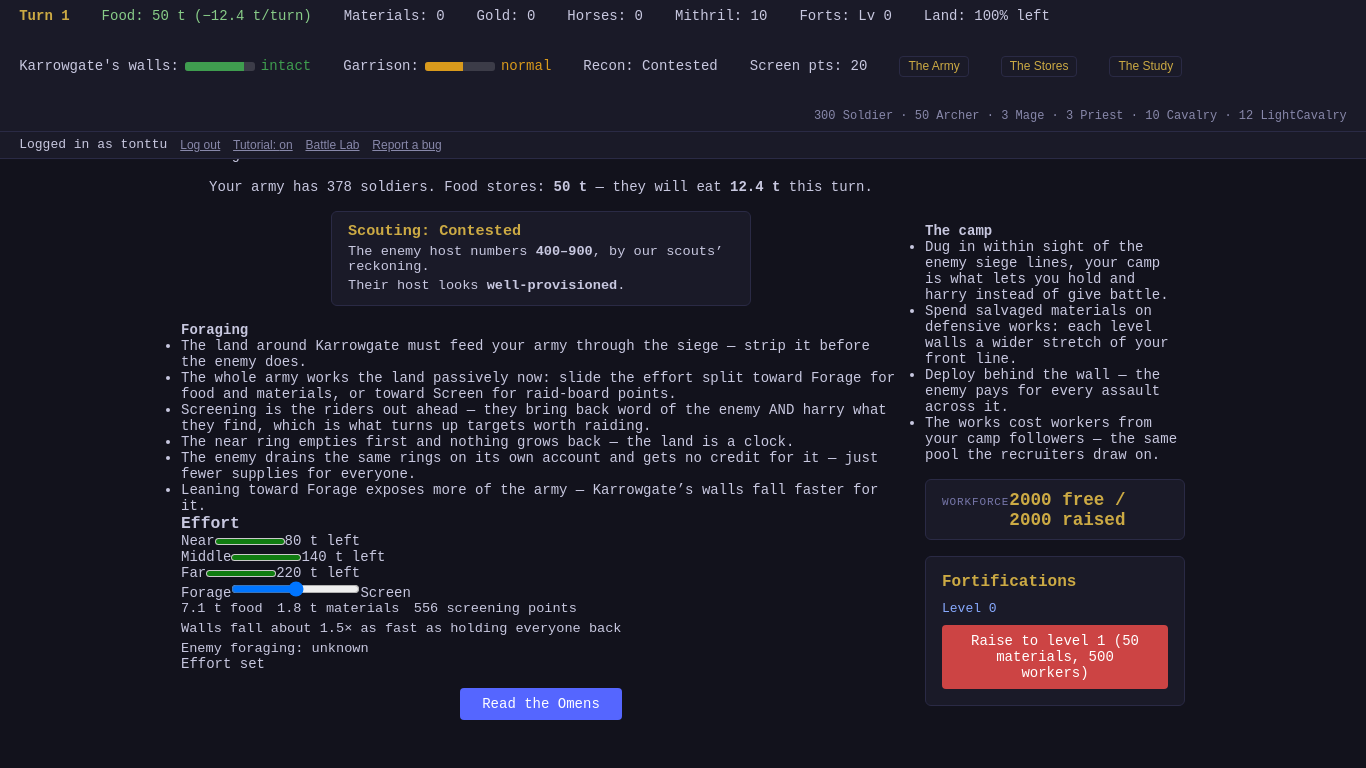
Test: raid panel — opportunities › names the fate a counter raid unmakes, and what it would cost
The width and height of the screenshot is (1366, 768).
(page scrolled)
Click the button with test id "to-omens" at (541, 704), box [460,688,622,720]
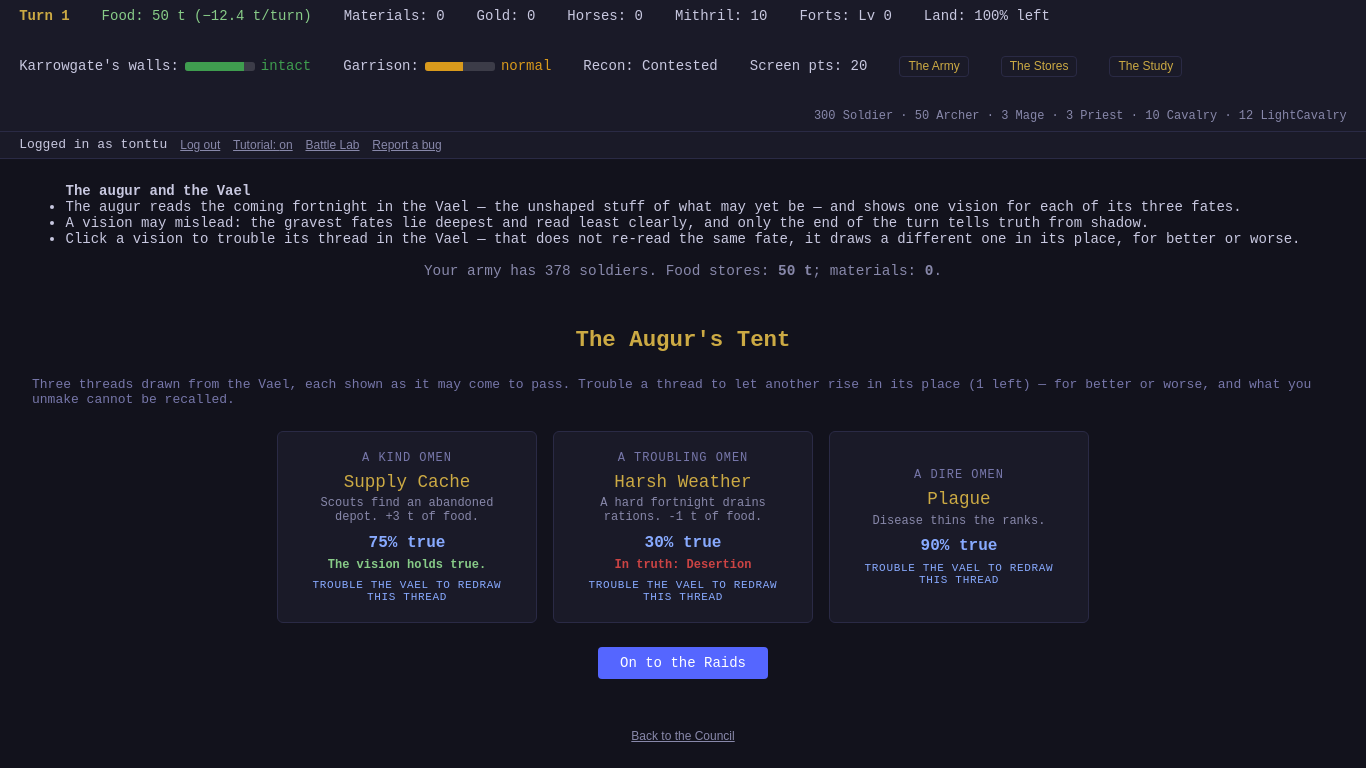
Click the button with test id "augury-continue" at (683, 663), box [598,647,768,679]
(page scrolled)
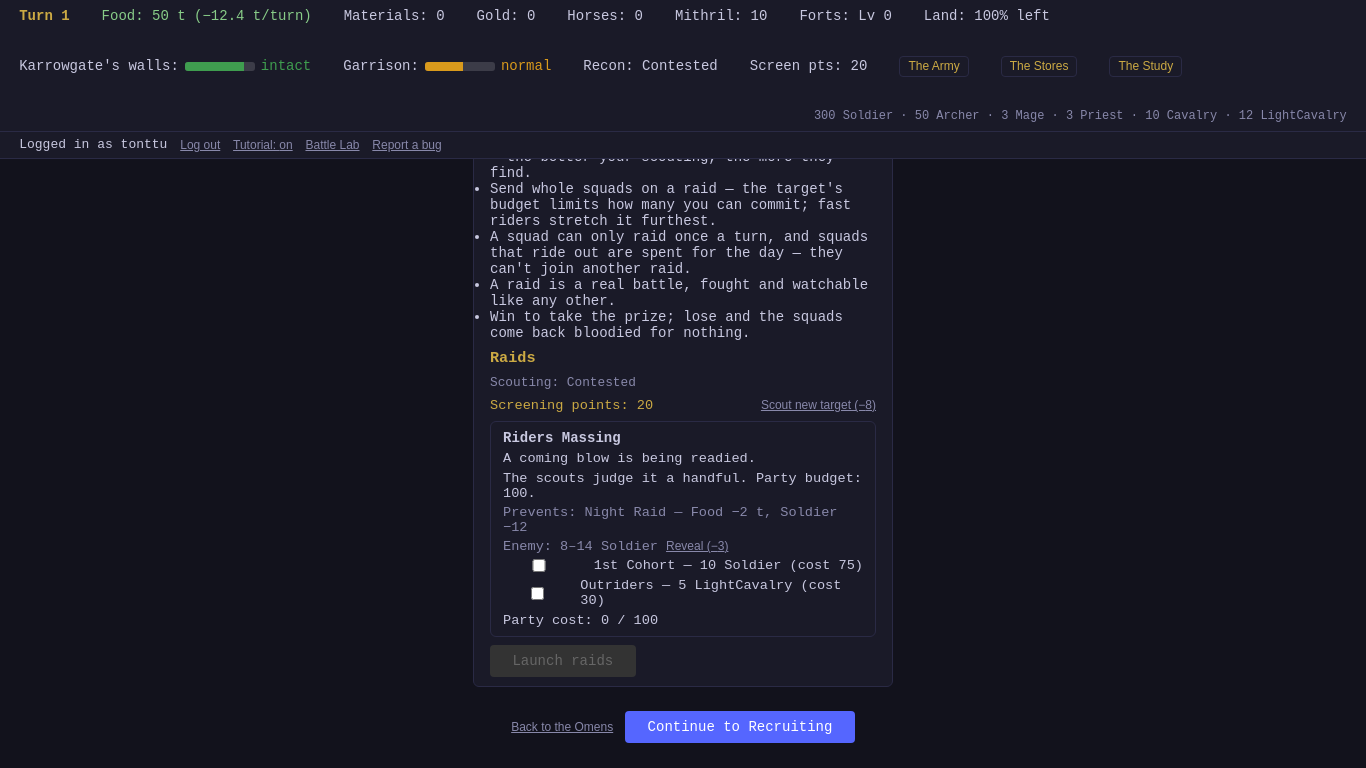
Check: the text with test id "raid-threat-d1-c" reads "Prevents: Night Raid — Food −2 t, Soldier −12", box [503,505,863,535]
